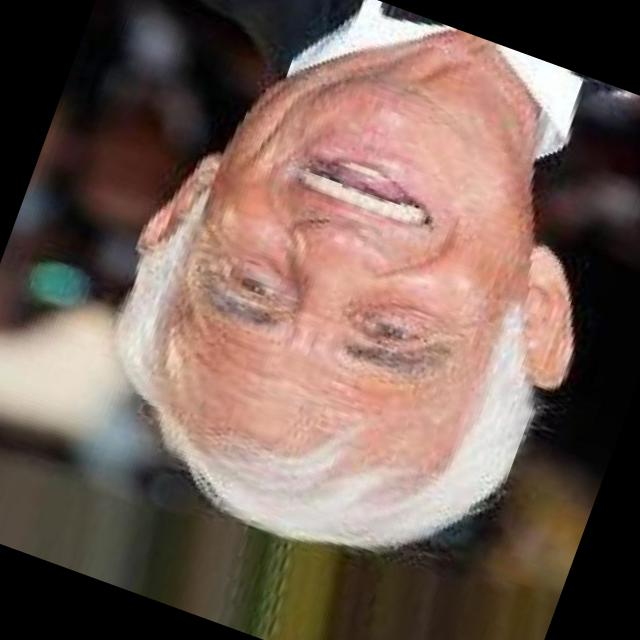bareface: (94, 20, 600, 571)
